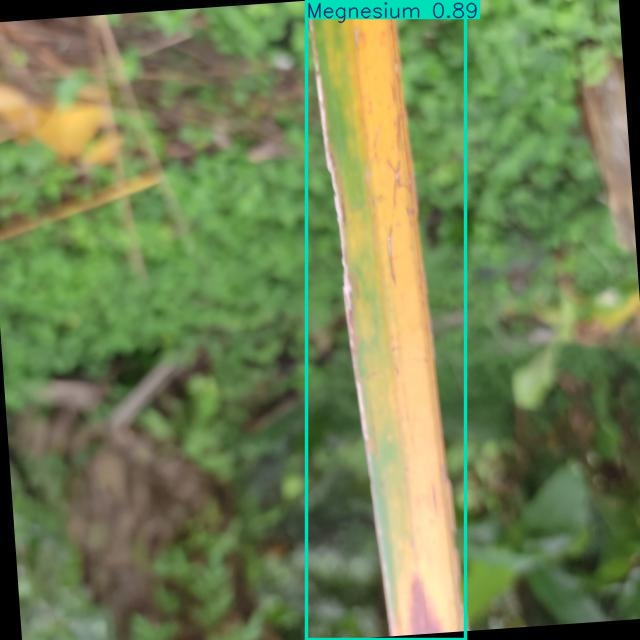Megnesium: (307, 0, 466, 639)
